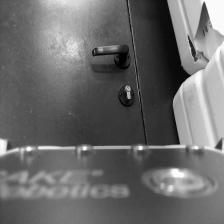Door Handle: (91, 42, 132, 70)
Lock: (119, 82, 135, 108)
